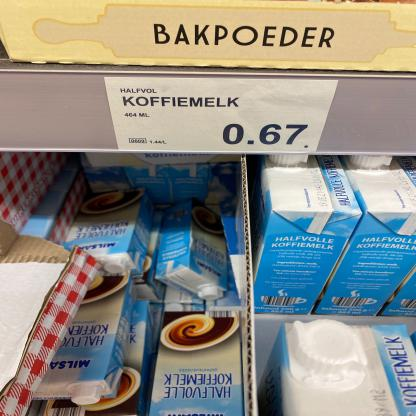prtg: (104, 77, 341, 153)
